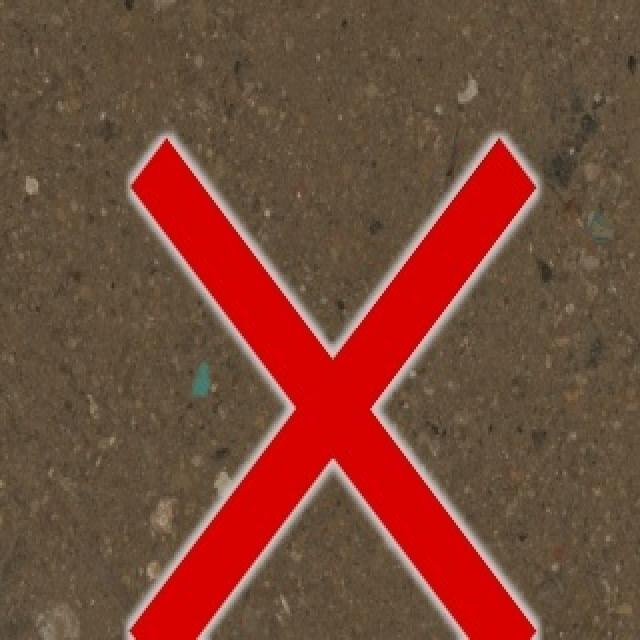x_marker: (129, 137, 535, 639)
